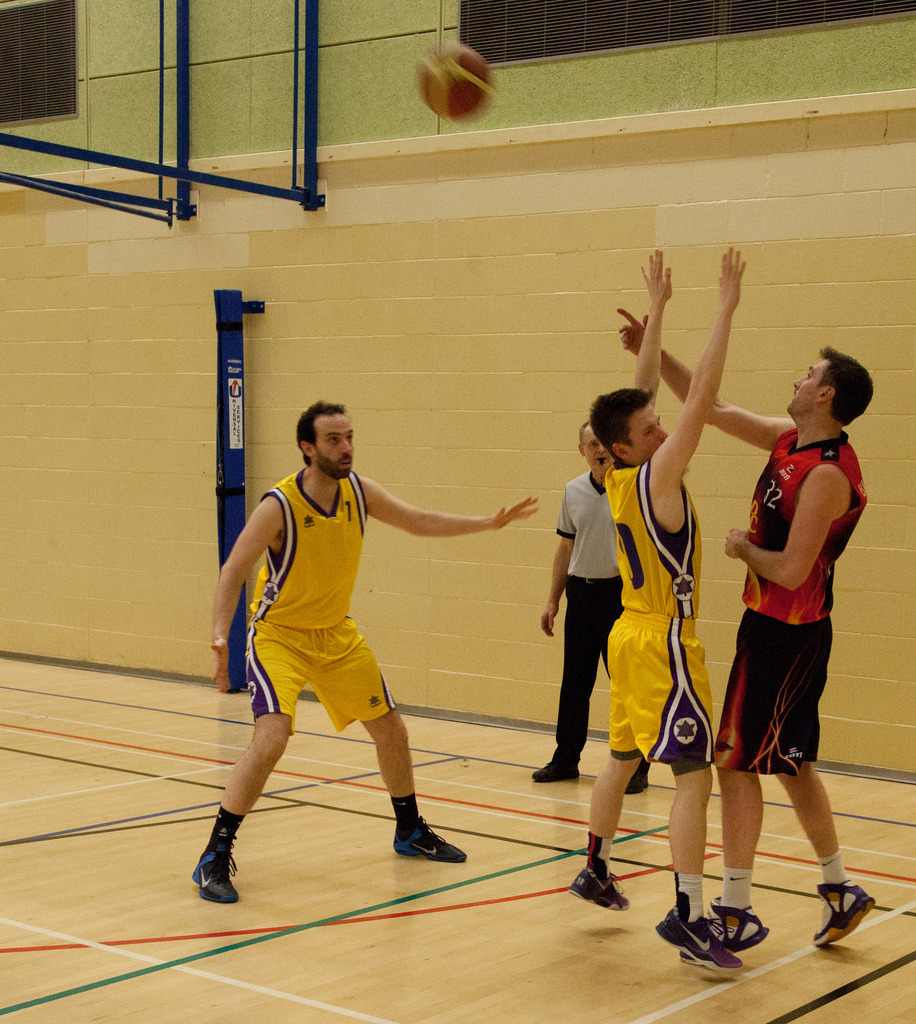Ball: (412, 42, 491, 122)
